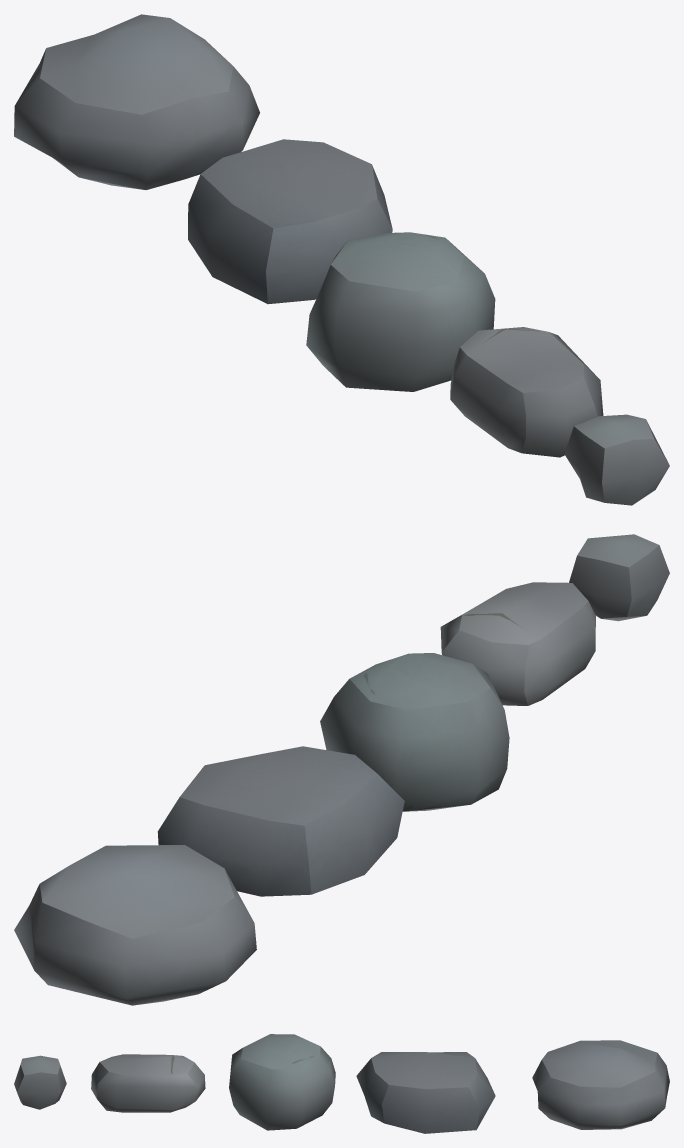
Rendered from env_pebble_kit_export_01.fbx.
The picture shows the model from 3 angles, top to bottom: view 1: azimuth 30°, elevation 25°; view 2: azimuth 150°, elevation 25°; view 3: azimuth 270°, elevation 25°; orthographic projection. The views are drawn at different scales.
Parts seen in each view (by area): view 1: pebble5, pebble4, pebble3, pebble2, pebble1; view 2: pebble5, pebble4, pebble3, pebble2, pebble1; view 3: pebble5, pebble4, pebble3, pebble2, pebble1.
Boxes of the visible parts, left/top/right/bottom form: pebble5: left=14, top=14, right=259, bottom=189; pebble4: left=188, top=139, right=392, bottom=304; pebble3: left=306, top=232, right=495, bottom=391; pebble2: left=450, top=327, right=603, bottom=457; pebble1: left=564, top=414, right=669, bottom=505; pebble5: left=14, top=845, right=256, bottom=1005; pebble4: left=157, top=746, right=404, bottom=896; pebble3: left=320, top=653, right=509, bottom=811; pebble2: left=440, top=582, right=595, bottom=705; pebble1: left=569, top=534, right=669, bottom=621; pebble5: left=532, top=1040, right=669, bottom=1129; pebble4: left=356, top=1052, right=495, bottom=1133; pebble3: left=229, top=1034, right=335, bottom=1130; pebble2: left=91, top=1054, right=205, bottom=1112; pebble1: left=14, top=1055, right=66, bottom=1109.
Size of the model in its own units: 2 by 1.13 by 9.12.
Materials: 5 (5 with a texture image).
